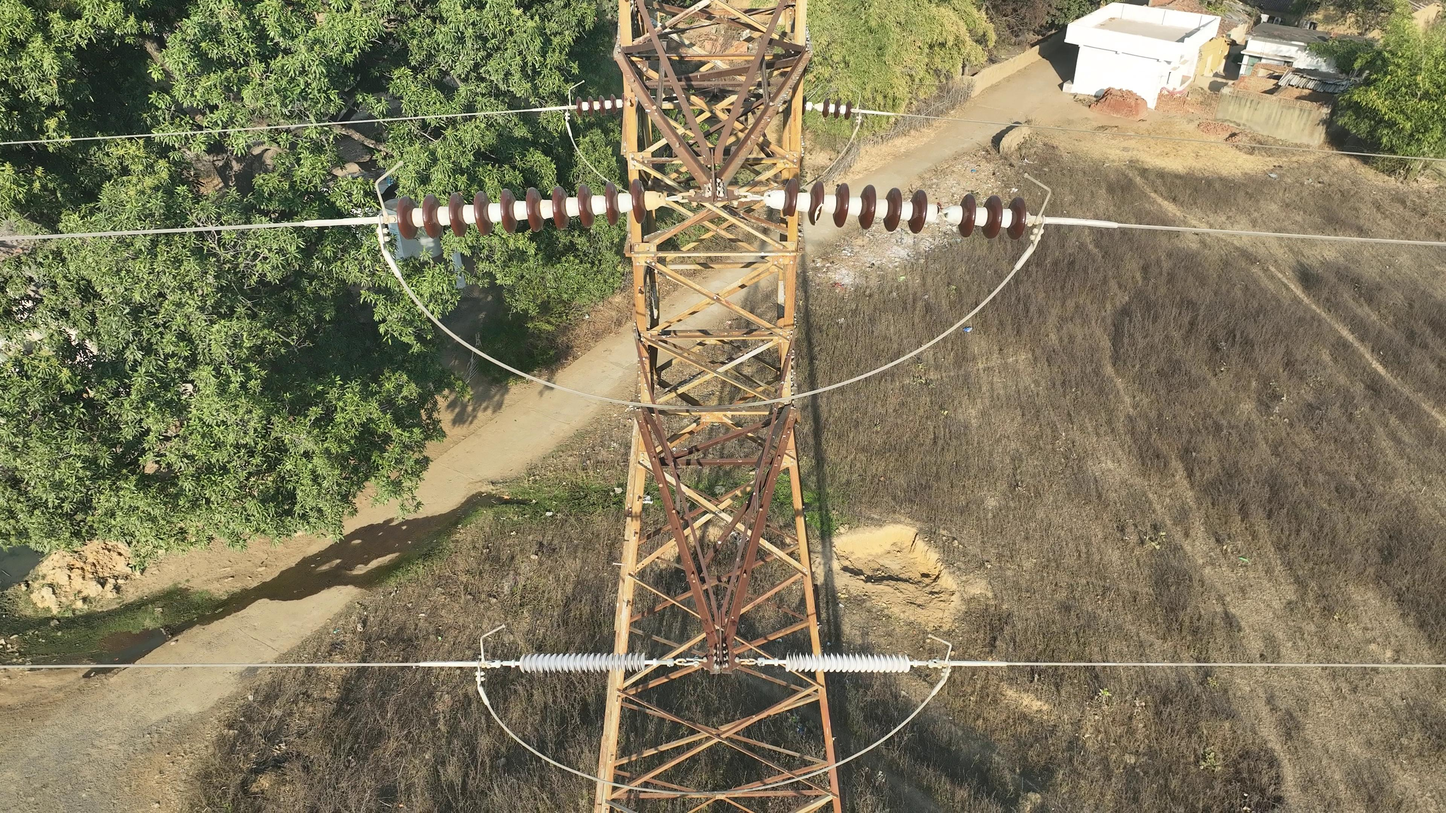broken_insulator: (932, 191, 952, 238), (782, 178, 799, 223), (808, 181, 824, 226), (810, 96, 818, 117)
